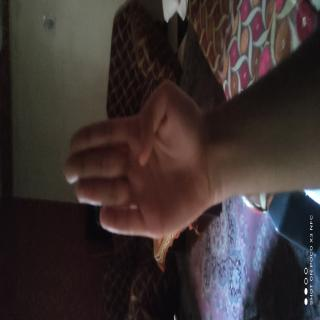KAAF: (33, 134, 111, 320)
